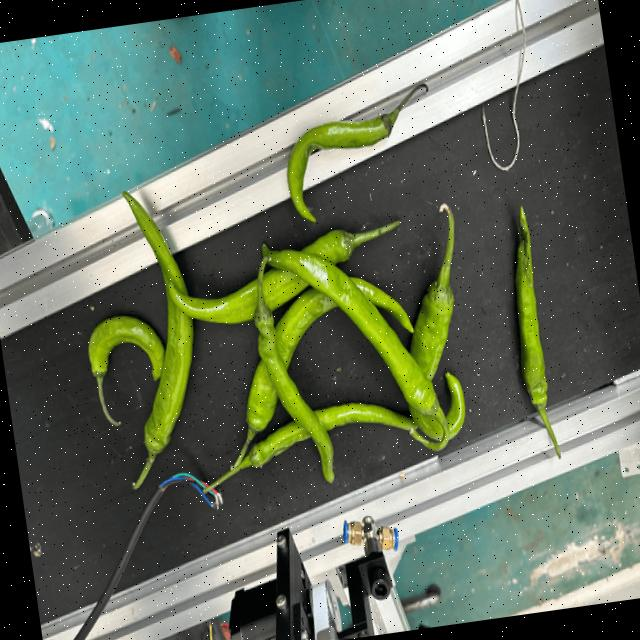chili: (258, 237, 438, 420), (242, 272, 415, 430), (120, 185, 194, 454), (165, 226, 355, 323), (253, 298, 334, 485), (285, 111, 396, 223), (244, 401, 421, 469), (402, 277, 468, 441), (513, 198, 549, 410), (86, 315, 165, 381)
